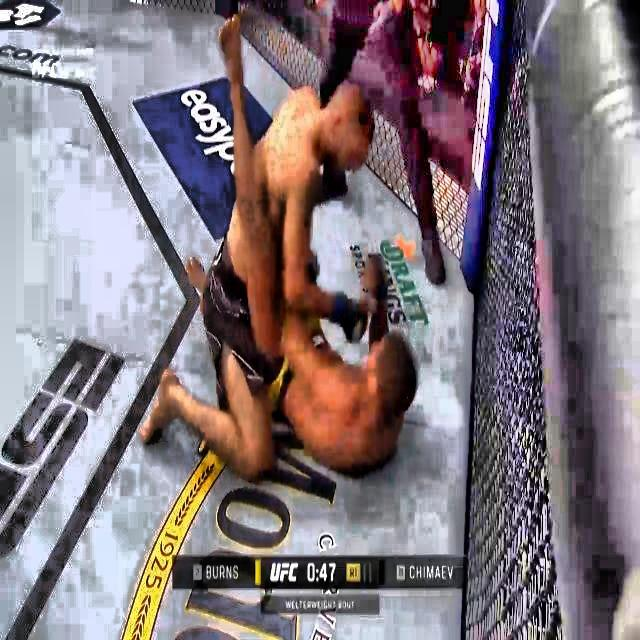punch: (284, 172, 372, 338)
